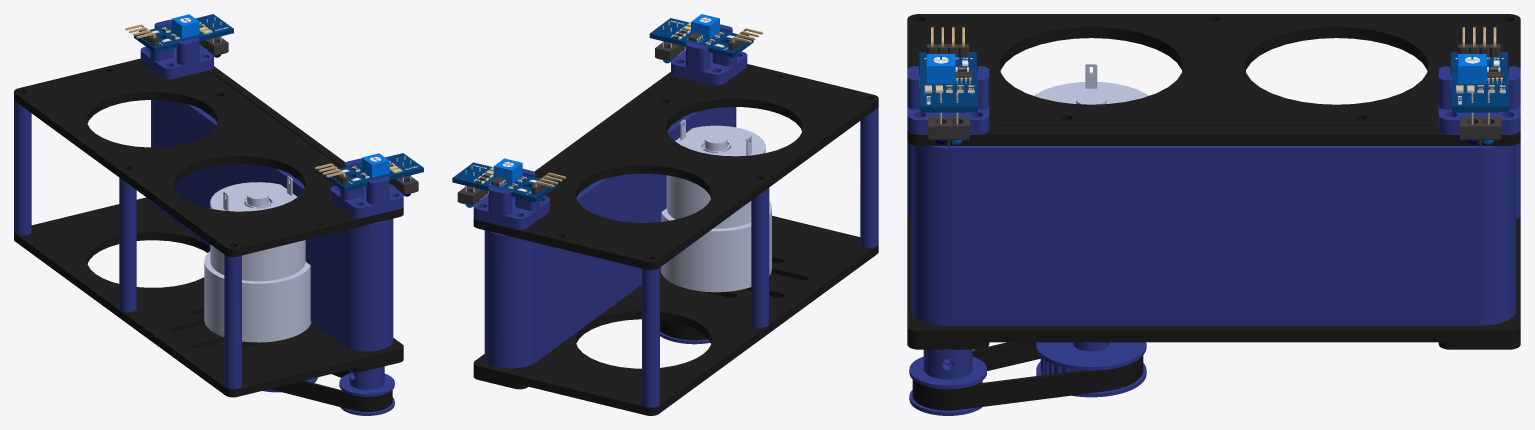
The model's file is Conveyor.fbx.
3 renders of one model, left to right at view 1: azimuth 30°, elevation 25°; view 2: azimuth 150°, elevation 25°; view 3: azimuth 270°, elevation 25°, orthographic. The views are drawn at different scales.
Visible parts, largest first — view 1: Body1 (×15), Body2, Body3 (×2); view 2: Body1 (×14), Body2, Body3 (×2); view 3: Body1 (×13), Body2, Body3 (×2).
Boxes of the visible parts, x1,y1,x2,y2 form: Body1 (×15): (14, 14, 423, 415); Body2: (14, 58, 403, 256); Body3 (×2): (140, 19, 403, 218); Body1 (×14): (452, 14, 878, 415); Body2: (473, 64, 878, 270); Body3 (×2): (473, 24, 747, 229); Body1 (×13): (907, 52, 1520, 415); Body2: (907, 14, 1520, 145); Body3 (×2): (907, 66, 1520, 134).
Bounding box in the file's own units: 78.56 × 92.74 × 150.
